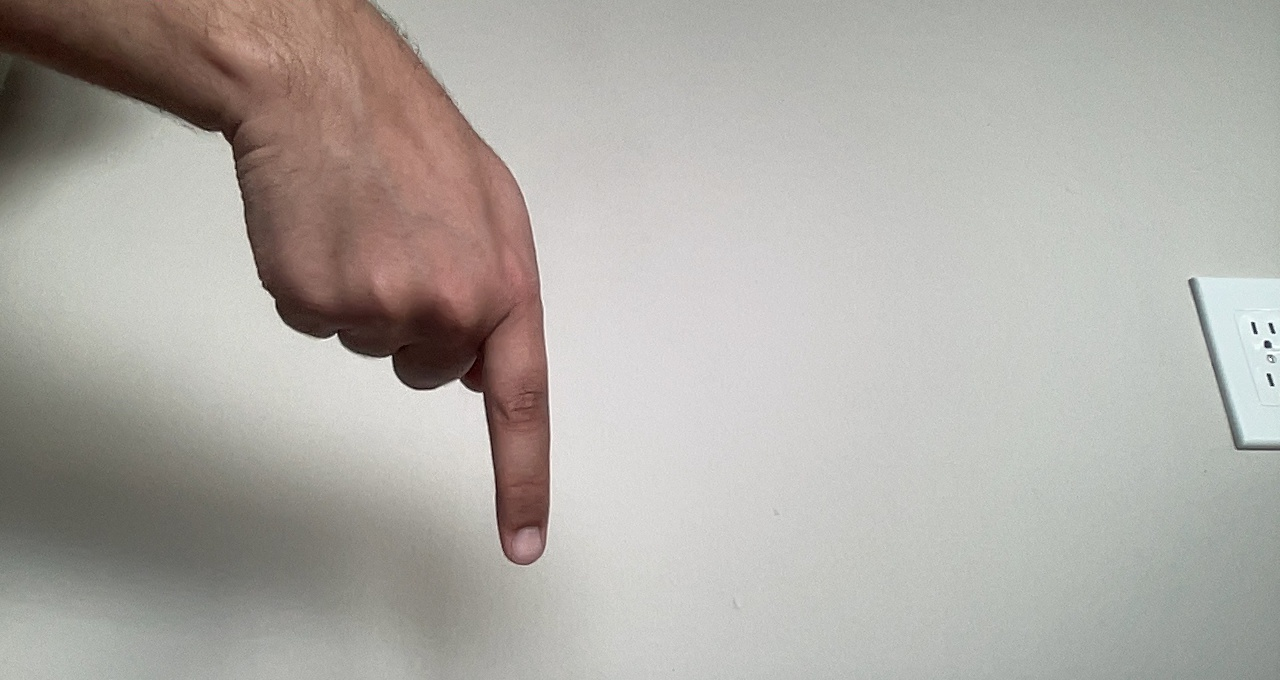fingerdown: (232, 124, 557, 568)
